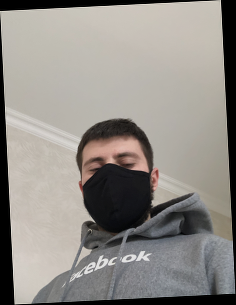with_mask: (83, 148, 152, 232)
